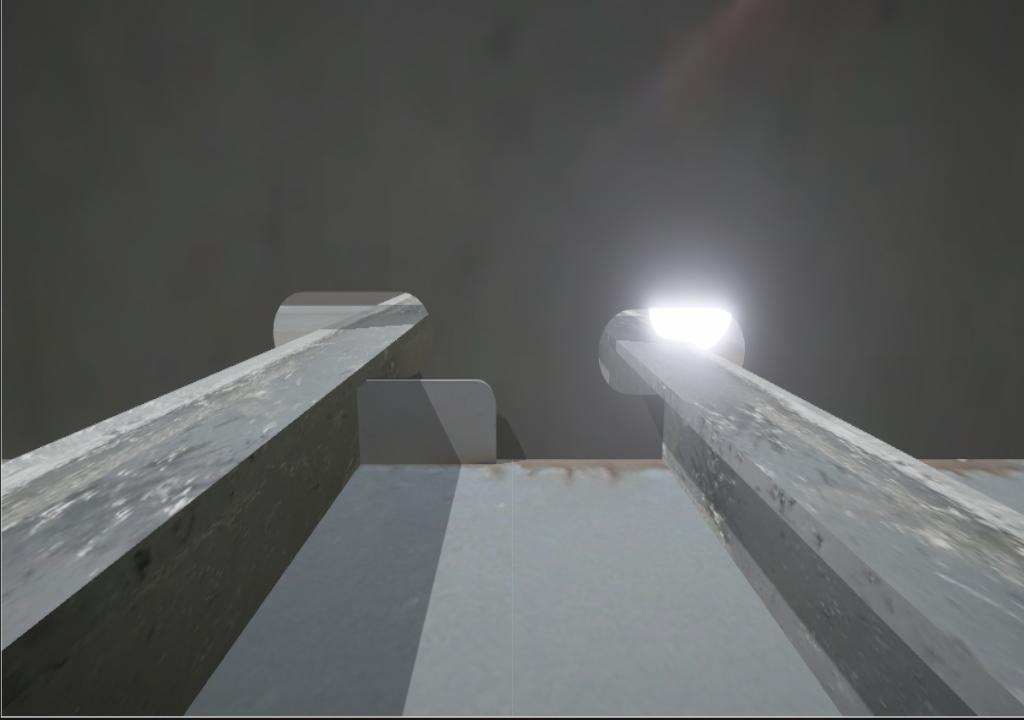fillet_yong_jeop_jang: (497, 453, 666, 465)
longi_yong_jeop_jang: (657, 392, 671, 467)
plate_CP05: (357, 378, 498, 465)
